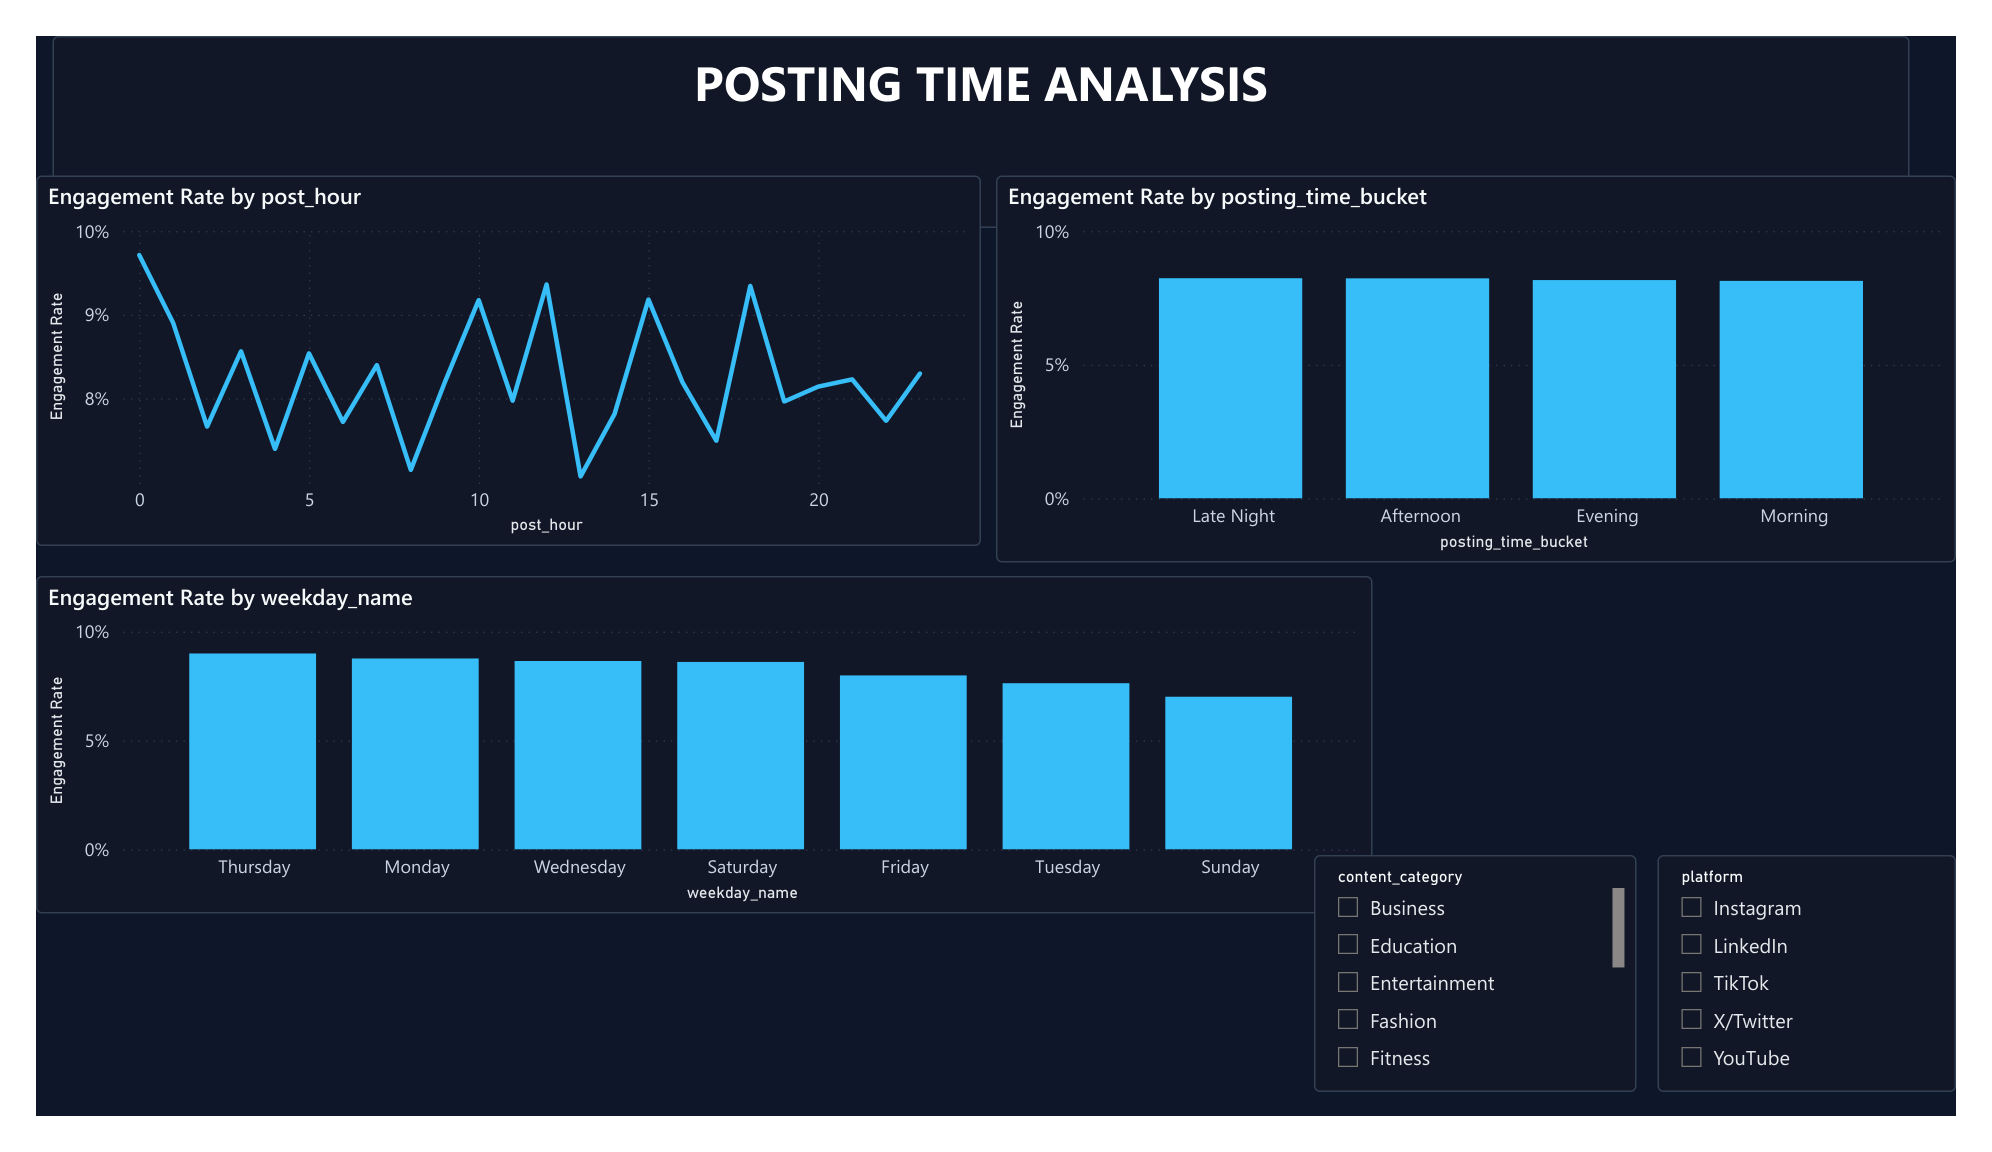

This screenshot's page, from the dashboard's own definition file:
{"tool":"powerbi","page":{"name":"Posting Time  Analysis","canvas":[1280,720],"ordinal":2},"visuals":[{"type":"textbox","box":[10.6,0,1238.8,128.2],"z":0},{"type":"lineChart","fields":{"Category":["posts.post_hour"],"Y":["posts.Engagement Rate"]},"box":[0,64.7,610.6,222.4],"z":1000},{"type":"clusteredColumnChart","fields":{"Category":["posts.posting_time_bucket"],"Y":["posts.Engagement Rate"]},"box":[640,92.9,640,257.6],"z":2000},{"type":"clusteredColumnChart","fields":{"Category":["posts.weekday_name"],"Y":["posts.Engagement Rate"]},"box":[0,360,890.6,224.7],"z":3000},{"type":"slicer","fields":{"Values":["posts.platform"]},"box":[1081.2,545.9,198.8,157.6],"z":4000},{"type":"slicer","fields":{"Values":["posts.content_category"]},"box":[851.8,545.9,215.3,157.6],"z":5000}]}

Visuals, with their boxes in screenshot pixels (x1, y1, x2, y2), scaled from the page's 1280x720 canvas onto the 1992x1152 screenshot:
textbox: [16,0,1944,205]
lineChart - posts.post_hour x posts.Engagement Rate: [0,104,950,459]
clusteredColumnChart - posts.posting_time_bucket x posts.Engagement Rate: [996,149,1991,561]
clusteredColumnChart - posts.weekday_name x posts.Engagement Rate: [0,576,1386,936]
slicer - posts.platform: [1683,873,1991,1126]
slicer - posts.content_category: [1326,873,1661,1126]
